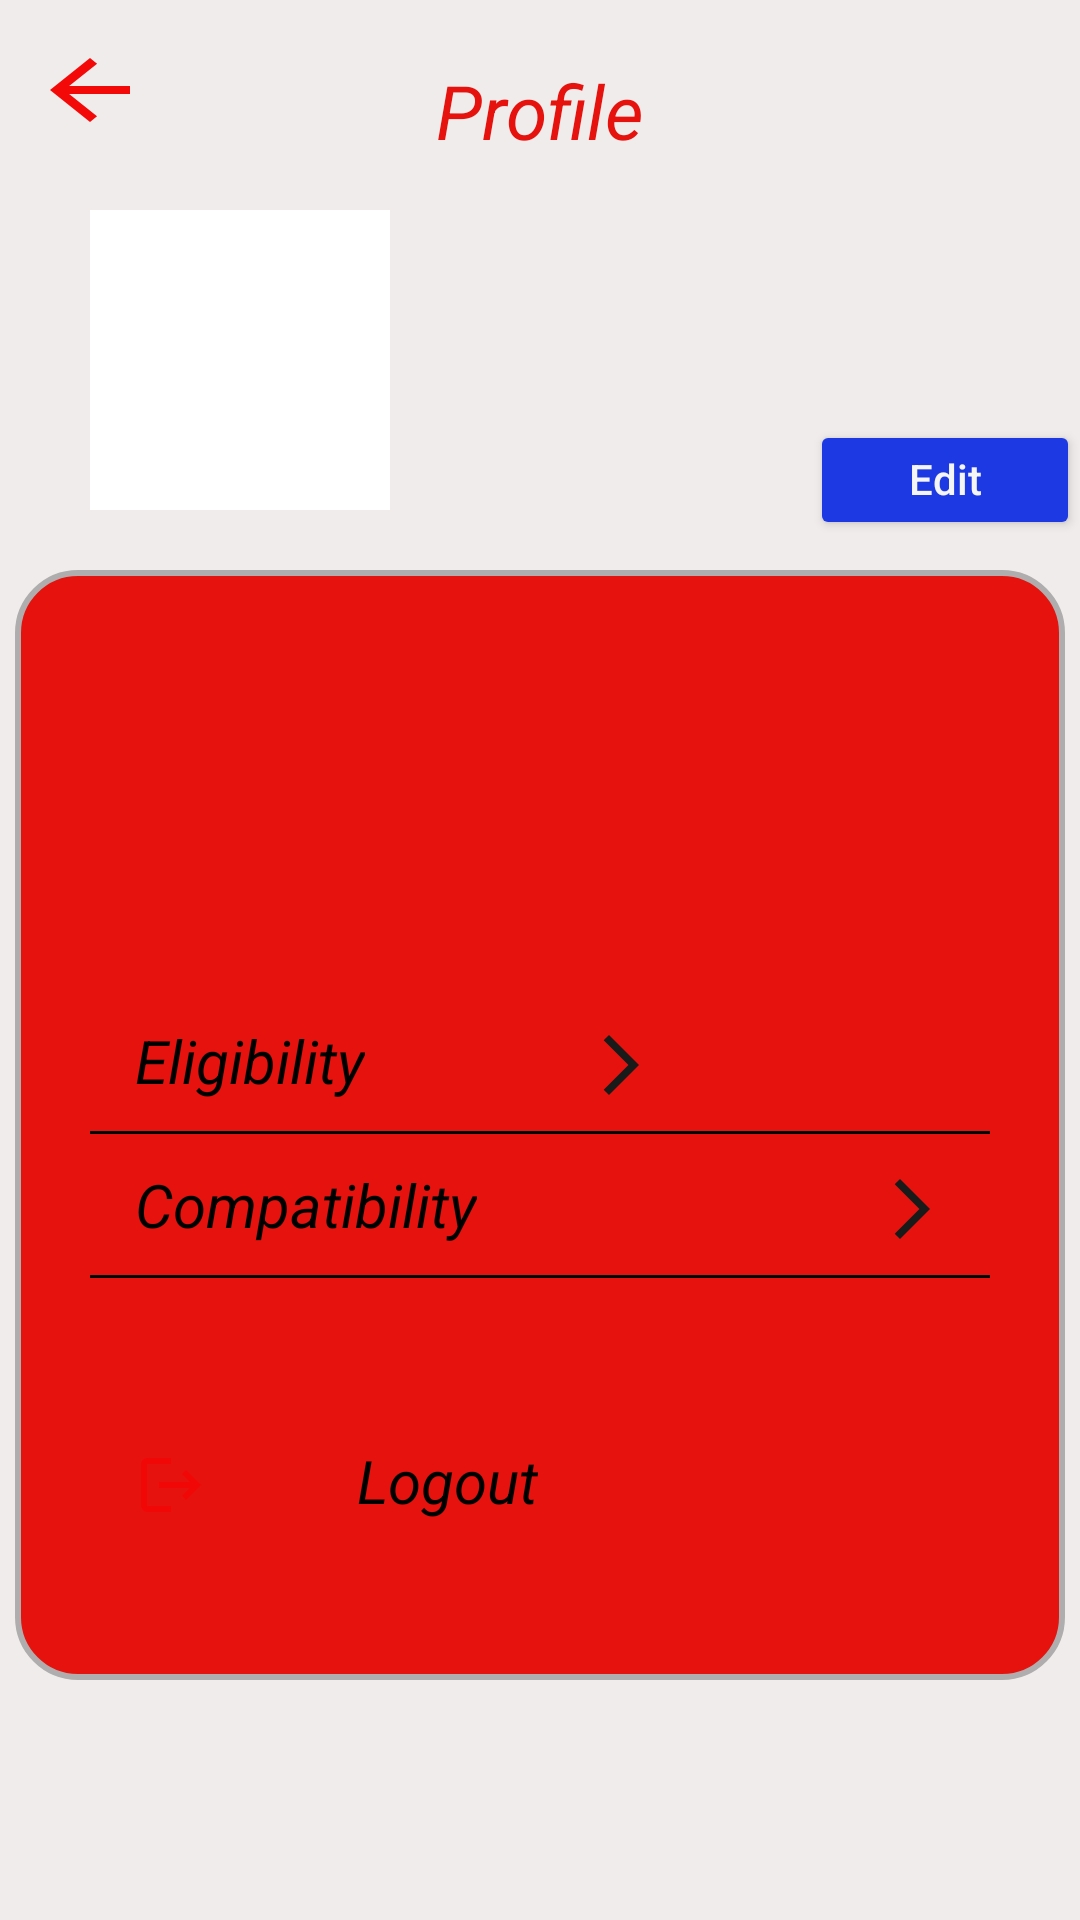

Icon click points for this 1080*1920 phone screenshot, format (x=x, y=y):
arrow back: (x=90, y=90)
arrow forward: (x=621, y=1065), (x=912, y=1209)
